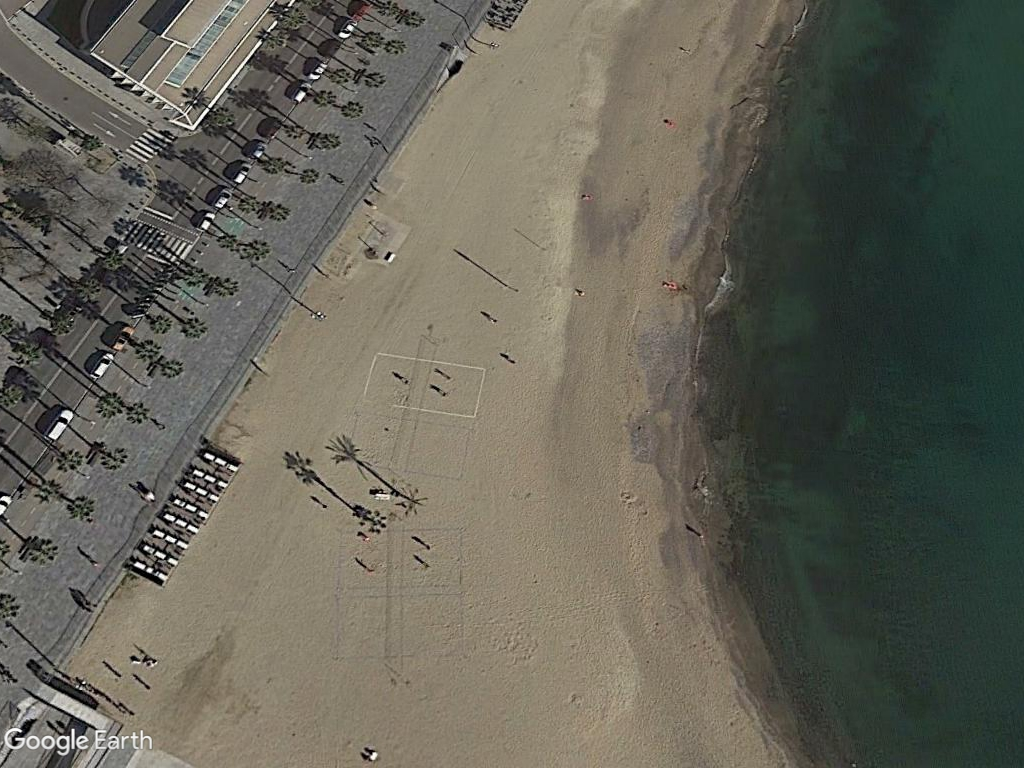van: (38, 405, 76, 448)
